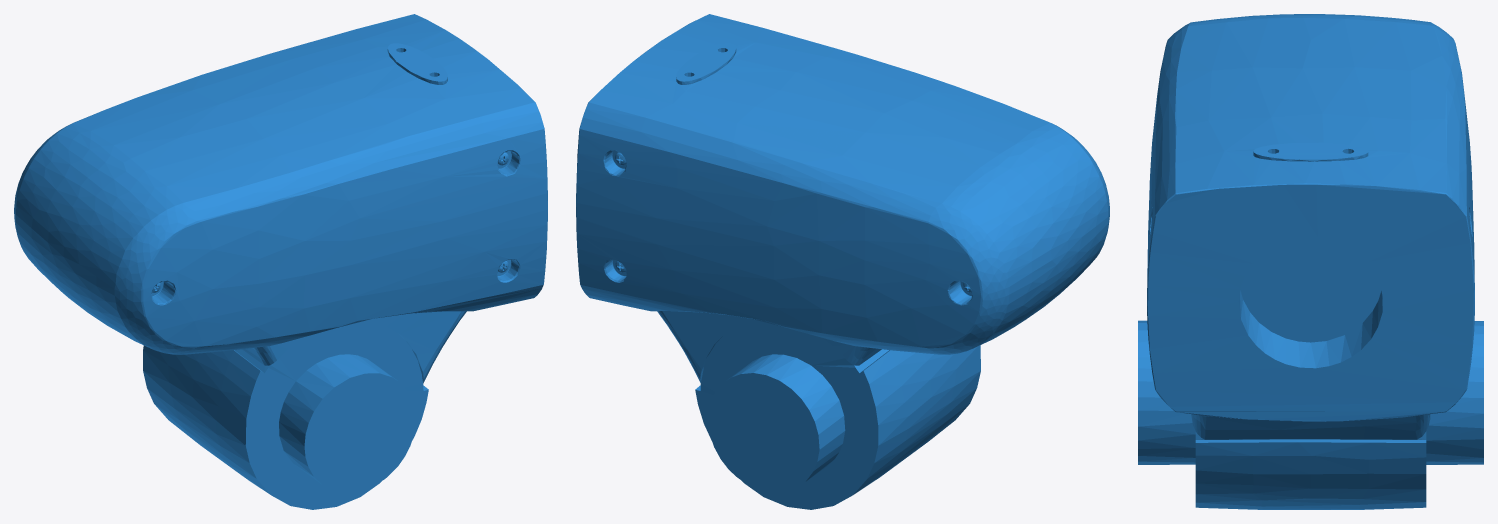
The model's file is DensoVP6242Link3.dae.
3 renders of one model, left to right at view 1: azimuth 30°, elevation 25°; view 2: azimuth 150°, elevation 25°; view 3: azimuth 270°, elevation 25°, orthographic. The views are drawn at different scales.
Visible parts, largest first — view 1: densoVP6242Link3; view 2: densoVP6242Link3; view 3: densoVP6242Link3.
Part boxes in pixels (left/top/right/bottom): densoVP6242Link3: left=14, top=14, right=547, bottom=509; densoVP6242Link3: left=576, top=14, right=1109, bottom=509; densoVP6242Link3: left=1138, top=14, right=1483, bottom=509.
Bounding box in the file's own units: 0.1895 × 0.1216 × 0.1636.
